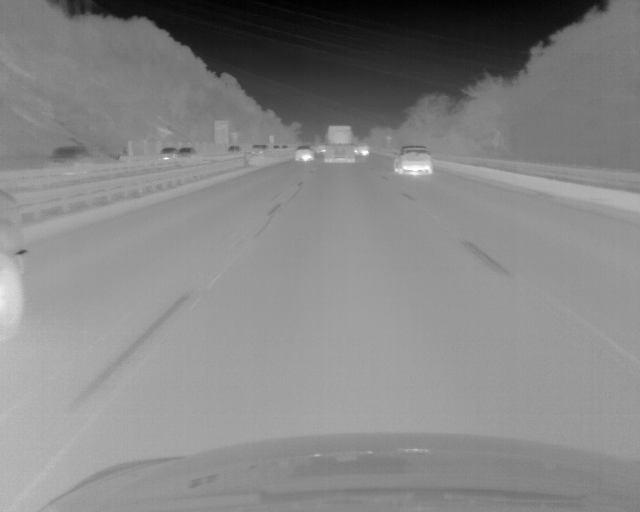car: (1, 199, 30, 342), (393, 145, 433, 175), (324, 126, 355, 163), (45, 145, 90, 169), (295, 146, 313, 161), (356, 141, 369, 155), (159, 147, 175, 157), (178, 147, 192, 157), (251, 145, 263, 154), (227, 146, 242, 152), (273, 145, 278, 149), (282, 144, 287, 148)
